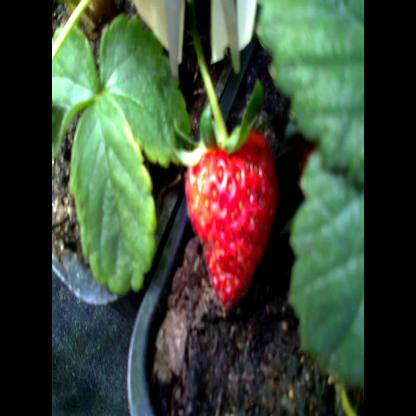ripe: (170, 119, 293, 320)
